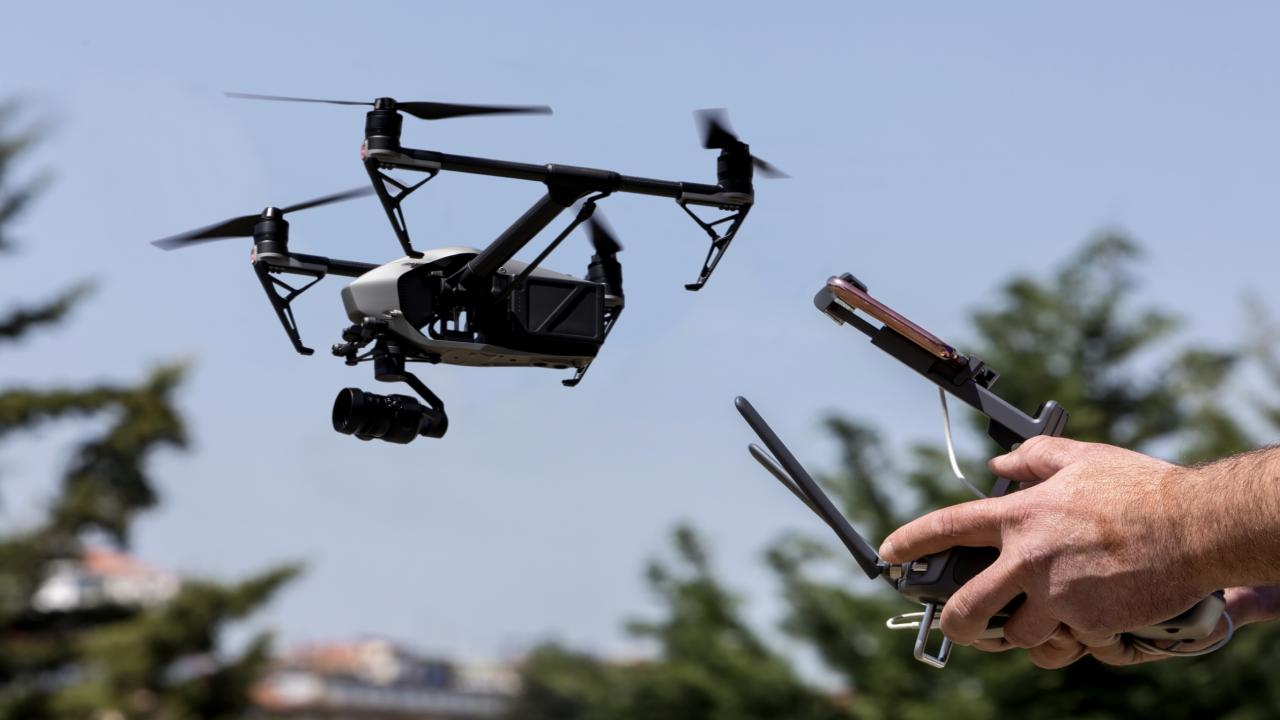Drone: (134, 71, 814, 452)
